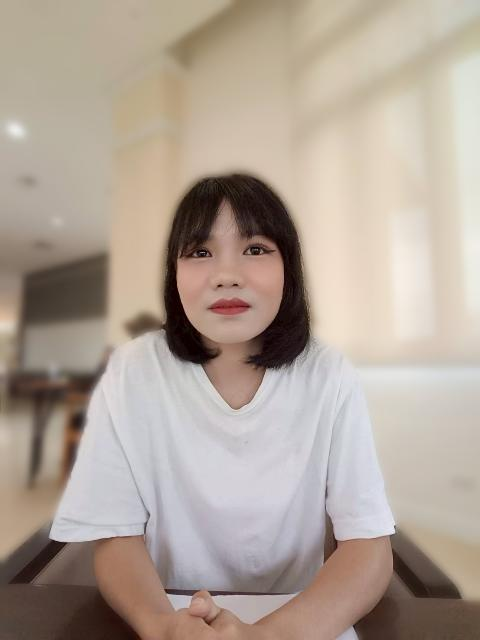fokus: (172, 171, 290, 350)
